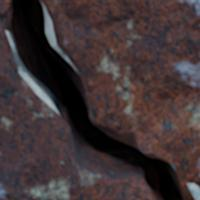broken_brick: (46, 0, 199, 188), (0, 26, 149, 199), (0, 0, 8, 18)
crack: (0, 0, 197, 199)
